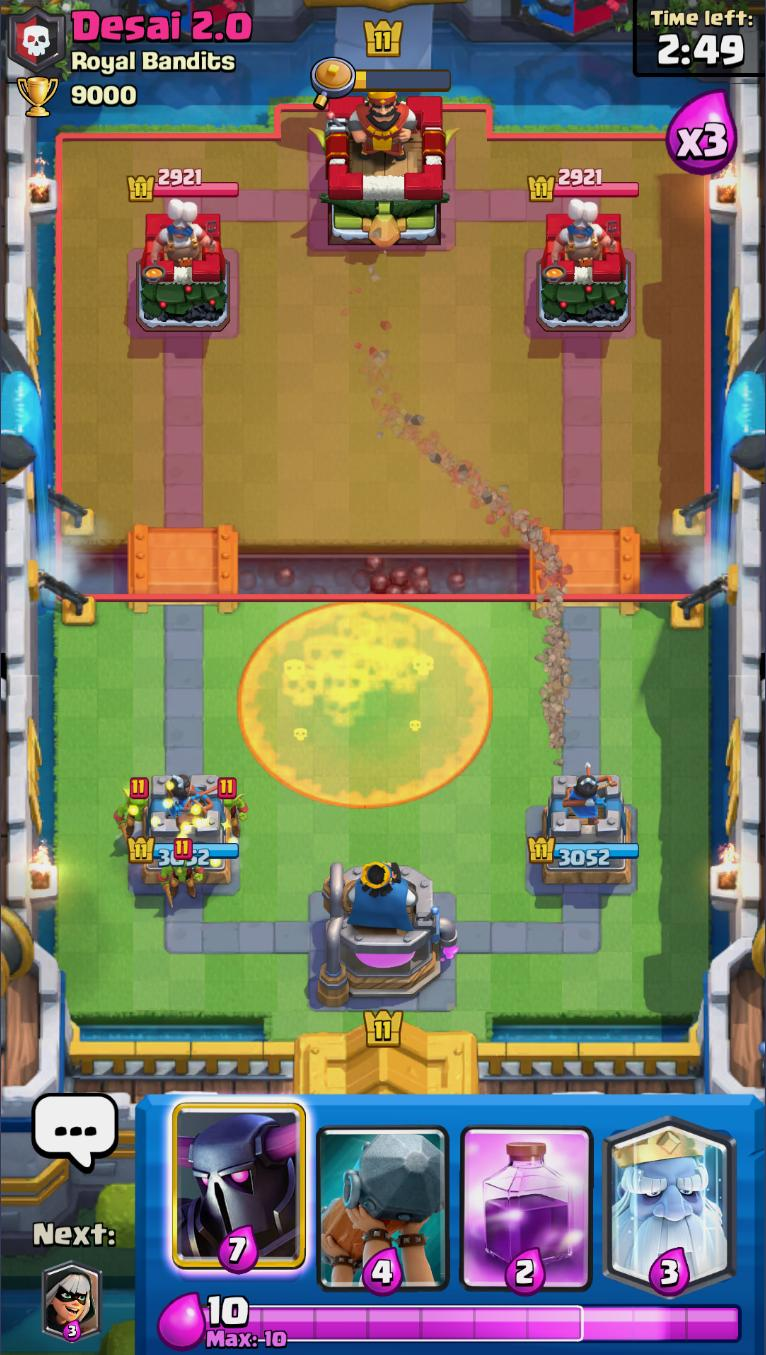BanditNext: (41, 1264, 103, 1343)
BattleRamDeck: (311, 1095, 455, 1296)
Chef: (150, 198, 220, 267), (551, 198, 618, 266)
Elixir: (203, 1295, 744, 1350)
EnemyTower: (533, 208, 631, 331), (133, 210, 229, 335)
Goblin: (159, 838, 203, 905), (114, 778, 151, 838), (217, 776, 250, 835)
KingTower: (308, 82, 456, 248)
MyKingTower: (319, 856, 458, 1009)
MyPrincessTower: (527, 772, 642, 890), (125, 769, 238, 887)
MyPrincessTowerHP: (125, 836, 238, 868), (527, 837, 640, 867)
PekkaDeck: (167, 1095, 310, 1296)
Poison: (239, 599, 493, 807)
RageDeck: (456, 1094, 598, 1295)
RoyaleGhostDeck: (599, 1094, 744, 1296)
TowerPrincessHP: (126, 168, 239, 203), (526, 169, 639, 203)
